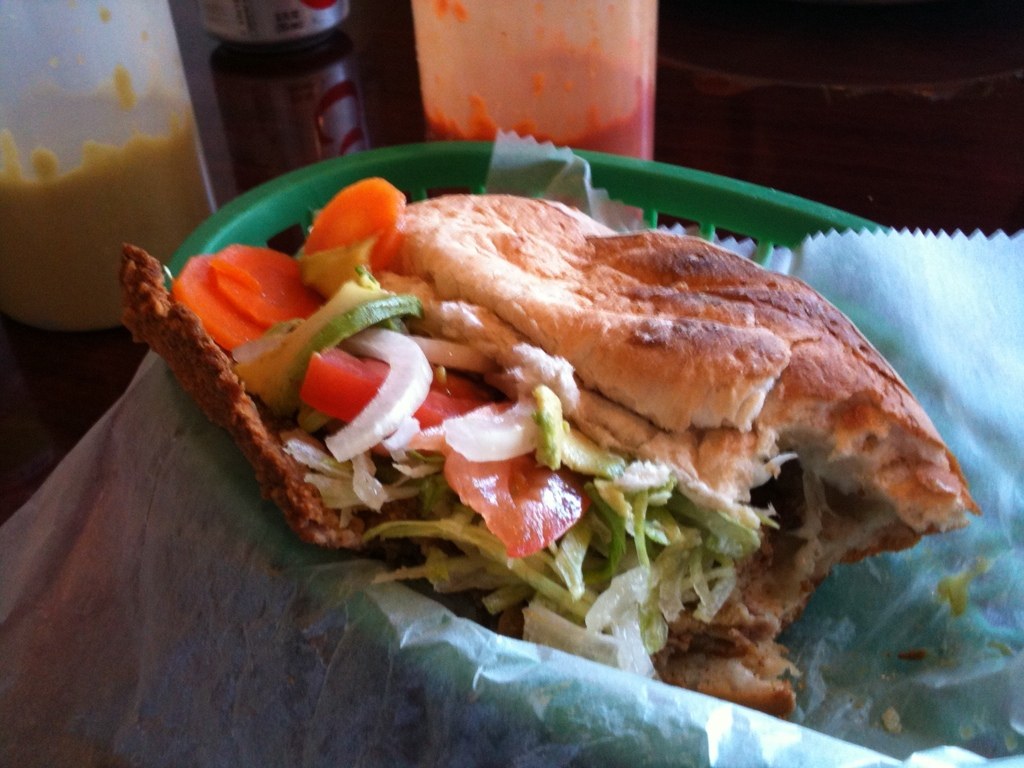sandwich: (129, 184, 971, 708)
